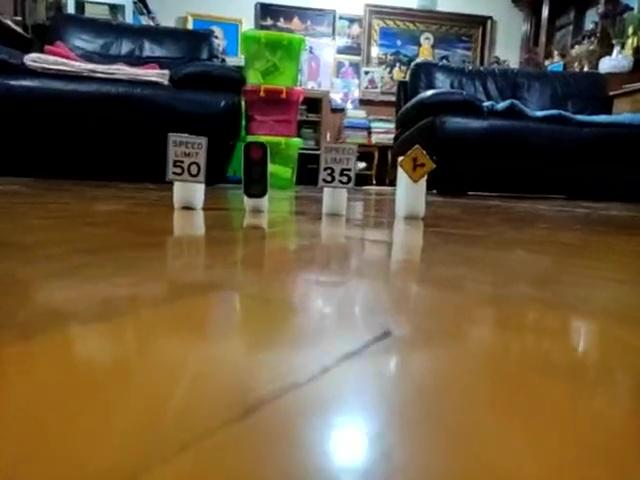Red Traffic Light: (242, 140, 271, 200)
Speed Limit 35: (319, 141, 357, 191)
Speed Limit 50: (166, 128, 208, 184)
Straight Or Right Sign: (397, 145, 438, 184)
